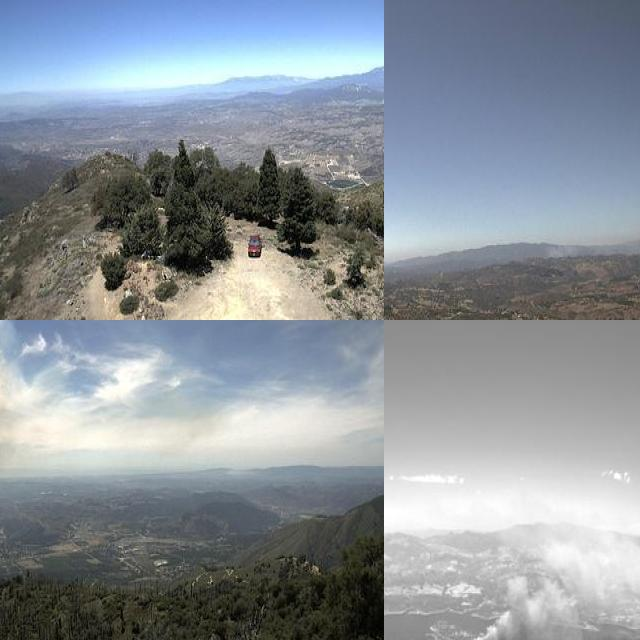smoke: (472, 505, 640, 640), (546, 234, 639, 258), (375, 77, 384, 109)
